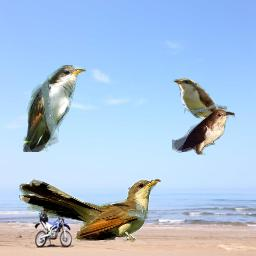Cuckoo: (19, 179, 161, 242), (23, 65, 86, 152), (172, 109, 235, 155), (172, 75, 227, 120)
